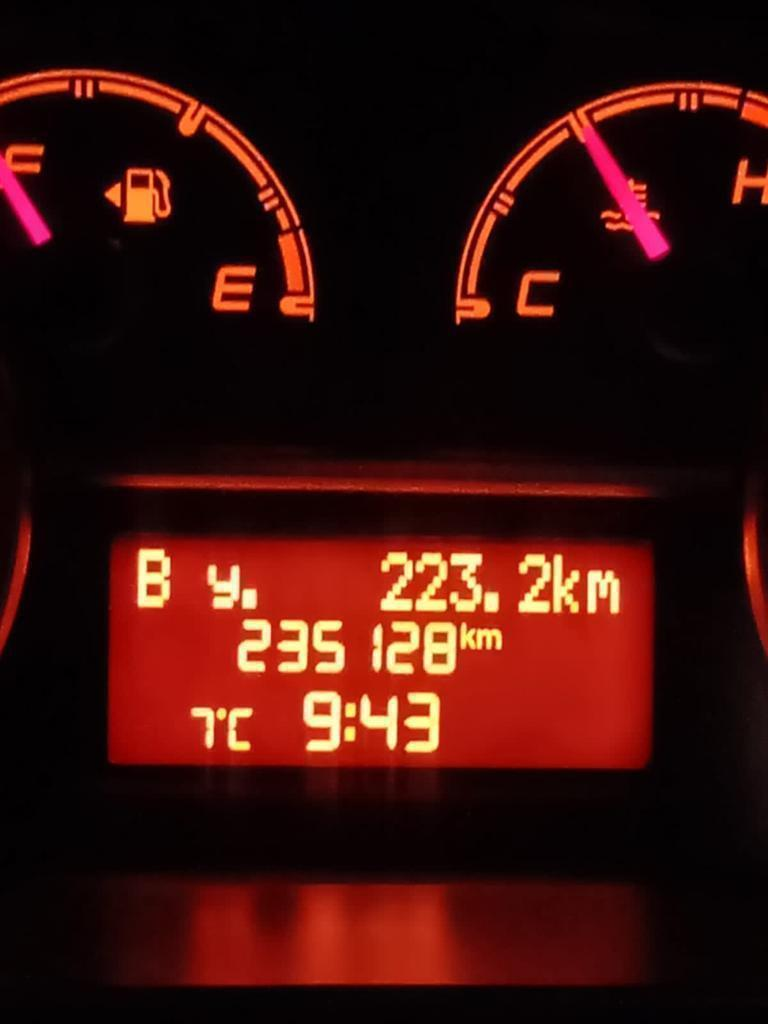,: (241, 584, 260, 611), (483, 590, 502, 614)
1: (365, 618, 384, 675)
2: (379, 548, 414, 612), (518, 548, 551, 614), (415, 549, 448, 613), (238, 614, 272, 676), (386, 618, 420, 674)
3: (404, 688, 441, 753), (450, 546, 482, 614), (275, 616, 310, 674)
4: (360, 691, 398, 754)
5: (313, 616, 347, 675)
7: (189, 704, 216, 751)
8: (424, 618, 457, 675)
9: (301, 688, 339, 754)
X: (136, 547, 170, 609), (552, 549, 581, 617), (585, 566, 623, 617), (207, 562, 239, 609), (227, 704, 254, 752), (476, 626, 503, 652), (344, 696, 356, 747), (459, 619, 475, 652)
odometer: (97, 518, 666, 785)
